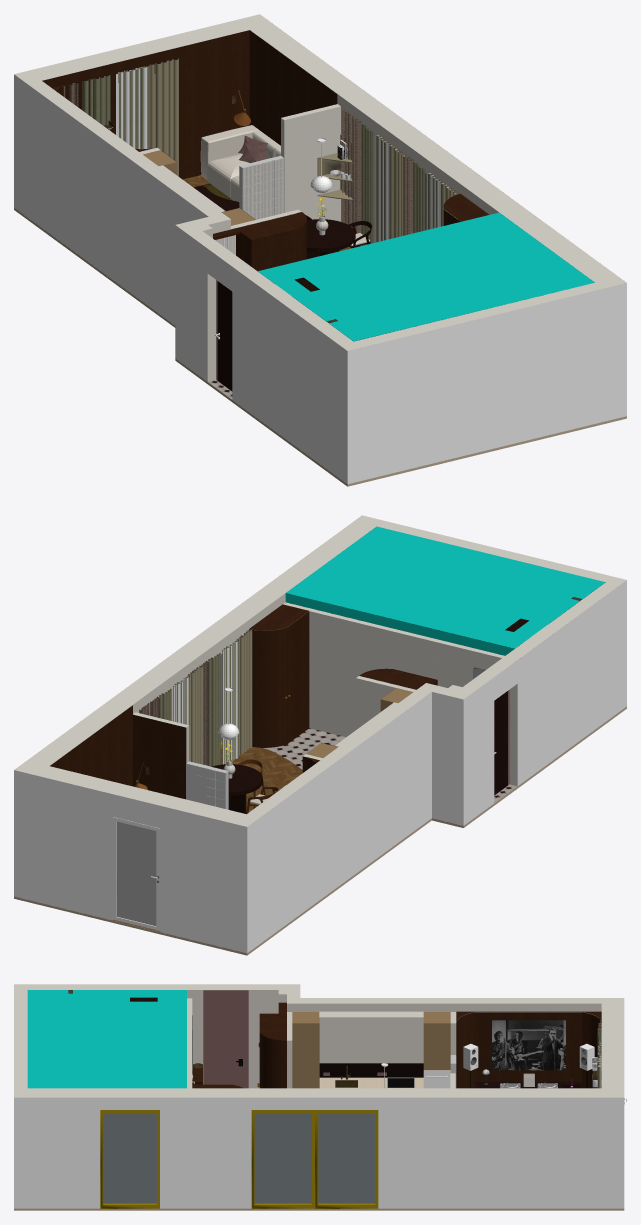
Rendered from citify_butas.opt.glb.
3 views of the same model, one above another, from view 1: azimuth 30°, elevation 25°; view 2: azimuth 150°, elevation 25°; view 3: azimuth 270°, elevation 25° (orthographic). The views are drawn at different scales.
Parts seen in each view (by area): view 1: mesh_1_ROOT_Layer0_255_255_255_ss, mesh_2_ROOT_Layer0_255_255_255_ds, mesh_0_ROOT_Layer0_81_52_24_ss, mesh_382_ROOT__curtain#4__Component_1307314_Layer0, mesh_12_ROOT__sienos_Layer0_40_22_9_ss, mesh_795_ROOT__gfd_Layer0_81_52_24_ds, mesh_384_ROOT__curtain#4__Component_1308962_Layer0, mesh_29_ROOT__fluted_glass__Component_804578__Component_8045, mesh_41_ROOT__GLASS_BLOCK#1__Component_805662__Component_805, mesh_59_ROOT__GLASS_BLOCK#1__Component_805662__Component_805; view 2: mesh_1_ROOT_Layer0_255_255_255_ss, mesh_2_ROOT_Layer0_255_255_255_ds, mesh_0_ROOT_Layer0_81_52_24_ss, mesh_795_ROOT__gfd_Layer0_81_52_24_ds, mesh_382_ROOT__curtain#4__Component_1307314_Layer0, mesh_12_ROOT__sienos_Layer0_40_22_9_ss, mesh_34_ROOT__grindys_Layer0_138_107_68_ss, mesh_29_ROOT__fluted_glass__Component_804578__Component_8045, mesh_31_ROOT__grindys_Layer0_170_162_158_ss, mesh_384_ROOT__curtain#4__Component_1308962_Layer0; view 3: mesh_1_ROOT_Layer0_255_255_255_ss, mesh_2_ROOT_Layer0_255_255_255_ds, mesh_38_ROOT__virsutines_spinteles_Layer0_188_179_164_ss, mesh_0_ROOT_Layer0_81_52_24_ss, mesh_1018_ROOT__Component_1557732__projector_screen_open_clo, mesh_795_ROOT__gfd_Layer0_81_52_24_ds, mesh_13_ROOT__sienos_Layer0_41_19_14_ss, mesh_18_ROOT__kriaukles_spintele_Layer0_221_209_187_ss, mesh_304_ROOT__vonios_spint_Layer0.
Part boxes in pixels (x1,y1,x2,y2): mesh_1_ROOT_Layer0_255_255_255_ss: [14, 30, 626, 484]; mesh_2_ROOT_Layer0_255_255_255_ds: [14, 14, 626, 486]; mesh_0_ROOT_Layer0_81_52_24_ss: [42, 30, 489, 225]; mesh_382_ROOT__curtain#4__Component_1307314_Layer0: [84, 65, 445, 245]; mesh_12_ROOT__sienos_Layer0_40_22_9_ss: [194, 186, 468, 391]; mesh_795_ROOT__gfd_Layer0_81_52_24_ds: [213, 209, 460, 271]; mesh_384_ROOT__curtain#4__Component_1308962_Layer0: [56, 81, 460, 245]; mesh_29_ROOT__fluted_glass__Component_804578__Component_8045: [239, 109, 352, 216]; mesh_41_ROOT__GLASS_BLOCK#1__Component_805662__Component_805: [243, 187, 328, 235]; mesh_59_ROOT__GLASS_BLOCK#1__Component_805662__Component_805: [243, 158, 283, 195]; mesh_1_ROOT_Layer0_255_255_255_ss: [14, 526, 626, 952]; mesh_2_ROOT_Layer0_255_255_255_ds: [14, 515, 626, 955]; mesh_0_ROOT_Layer0_81_52_24_ss: [50, 604, 319, 799]; mesh_795_ROOT__gfd_Layer0_81_52_24_ds: [287, 611, 437, 743]; mesh_382_ROOT__curtain#4__Component_1307314_Layer0: [157, 628, 284, 766]; mesh_12_ROOT__sienos_Layer0_40_22_9_ss: [211, 590, 594, 813]; mesh_34_ROOT__grindys_Layer0_138_107_68_ss: [113, 747, 302, 931]; mesh_29_ROOT__fluted_glass__Component_804578__Component_8045: [136, 744, 285, 878]; mesh_31_ROOT__grindys_Layer0_170_162_158_ss: [264, 728, 516, 802]; mesh_384_ROOT__curtain#4__Component_1308962_Layer0: [139, 629, 268, 765]; mesh_1_ROOT_Layer0_255_255_255_ss: [14, 990, 624, 1208]; mesh_2_ROOT_Layer0_255_255_255_ds: [14, 984, 624, 1210]; mesh_38_ROOT__virsutines_spinteles_Layer0_188_179_164_ss: [319, 1011, 625, 1099]; mesh_0_ROOT_Layer0_81_52_24_ss: [192, 1011, 601, 1088]; mesh_1018_ROOT__Component_1557732__projector_screen_open_clo: [492, 1020, 565, 1070]; mesh_795_ROOT__gfd_Layer0_81_52_24_ds: [259, 1002, 286, 1088]; mesh_13_ROOT__sienos_Layer0_41_19_14_ss: [319, 1063, 423, 1077]; mesh_18_ROOT__kriaukles_spintele_Layer0_221_209_187_ss: [319, 1077, 423, 1088]; mesh_304_ROOT__vonios_spint_Layer0: [475, 1082, 581, 1088].
Bounding box in the file's own units: 5927 × 2756 × 13537.
Materials: 59 (59 with a texture image).
